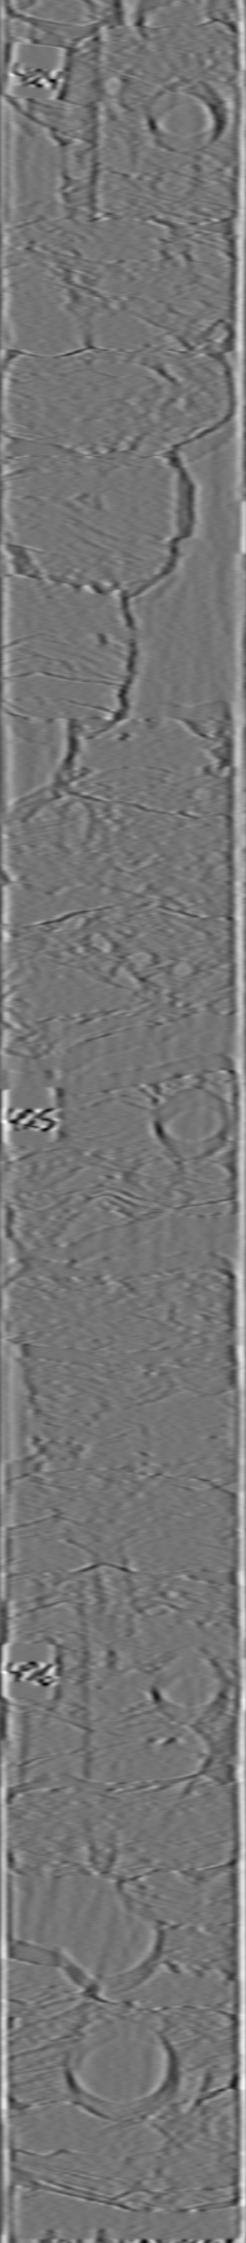hplug: (142, 1644, 235, 1732), (140, 73, 227, 157), (149, 1081, 233, 1166)
scal: (62, 2016, 180, 2124), (56, 1885, 163, 1998)
vplug: (21, 14, 114, 233), (14, 1604, 96, 1794)
